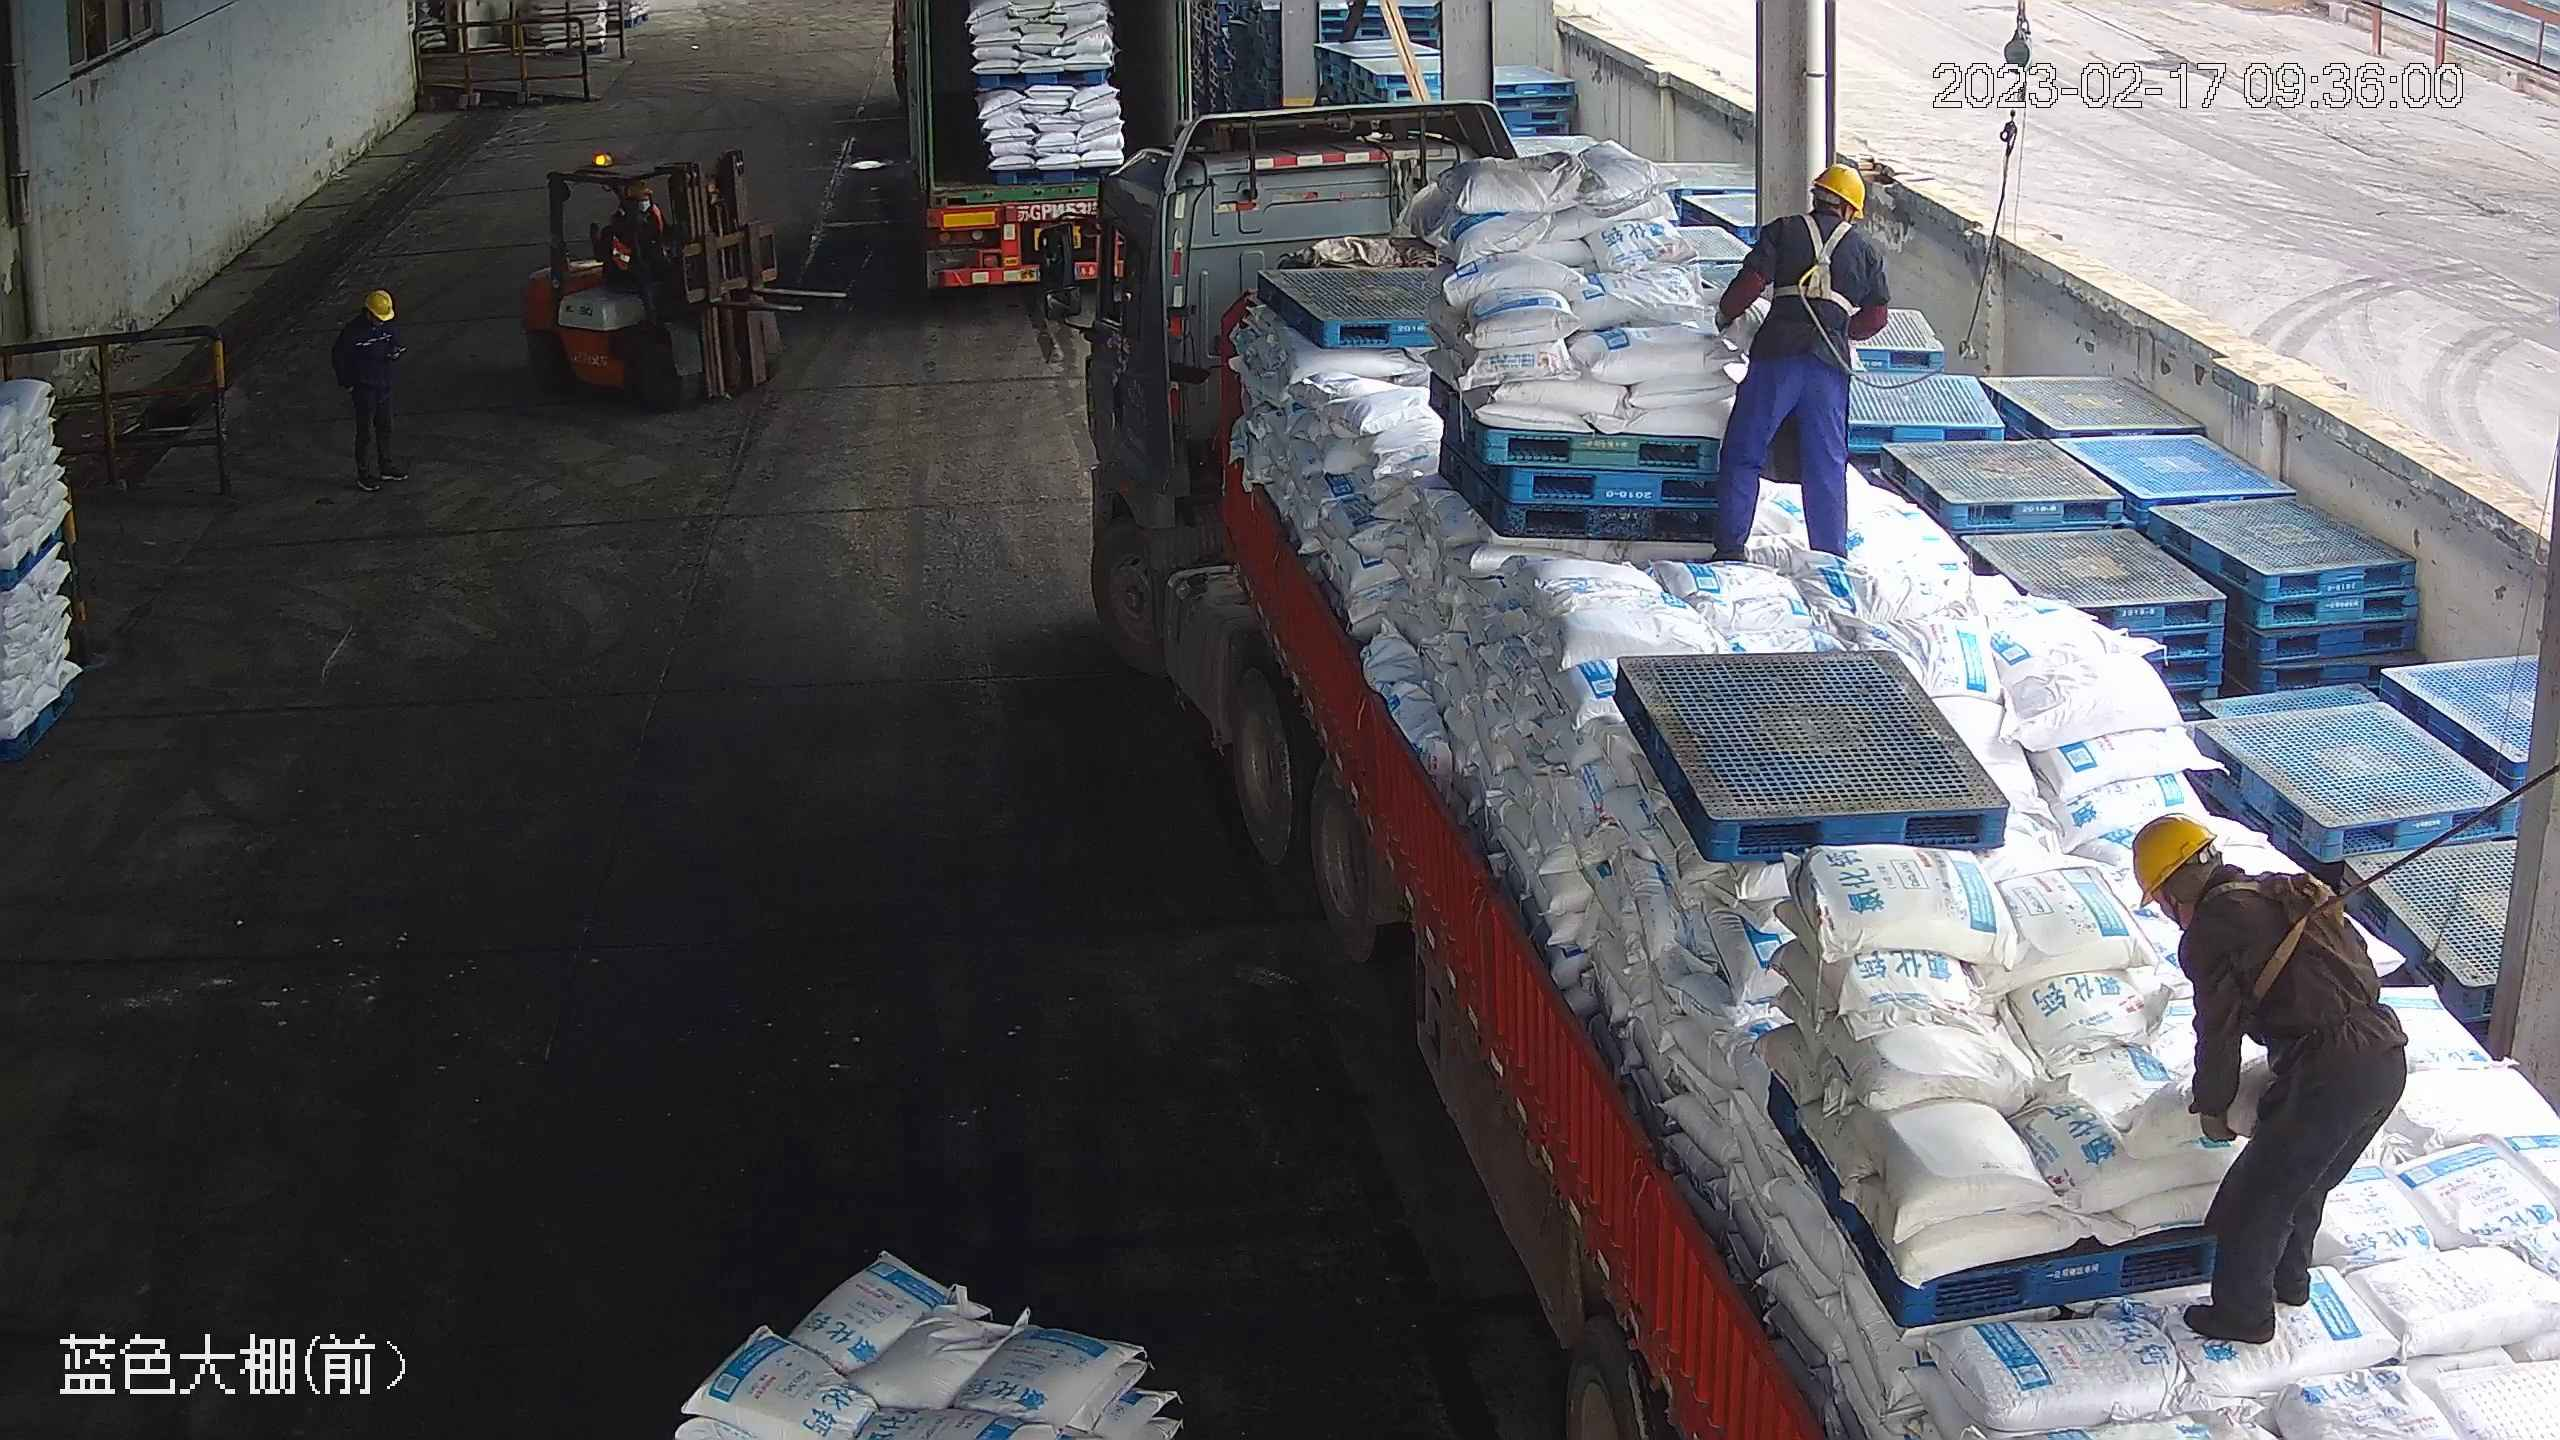belt: (2222, 865, 2362, 1000), (1768, 213, 1859, 311)
head: (2126, 811, 2316, 971), (1755, 160, 1881, 266), (334, 287, 402, 349)
helmet: (2127, 812, 2214, 903), (1812, 160, 1868, 215), (364, 286, 395, 317), (626, 180, 654, 197)
people: (2120, 808, 2411, 1349), (1708, 158, 1888, 567), (333, 286, 410, 490)
truck: (1032, 99, 2552, 1440), (885, 1, 1199, 298)
